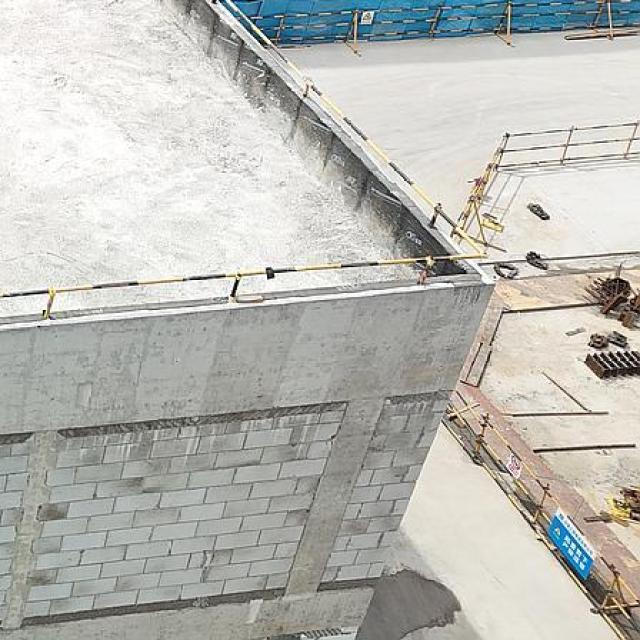edge_guardrail: (0, 0, 491, 318)
